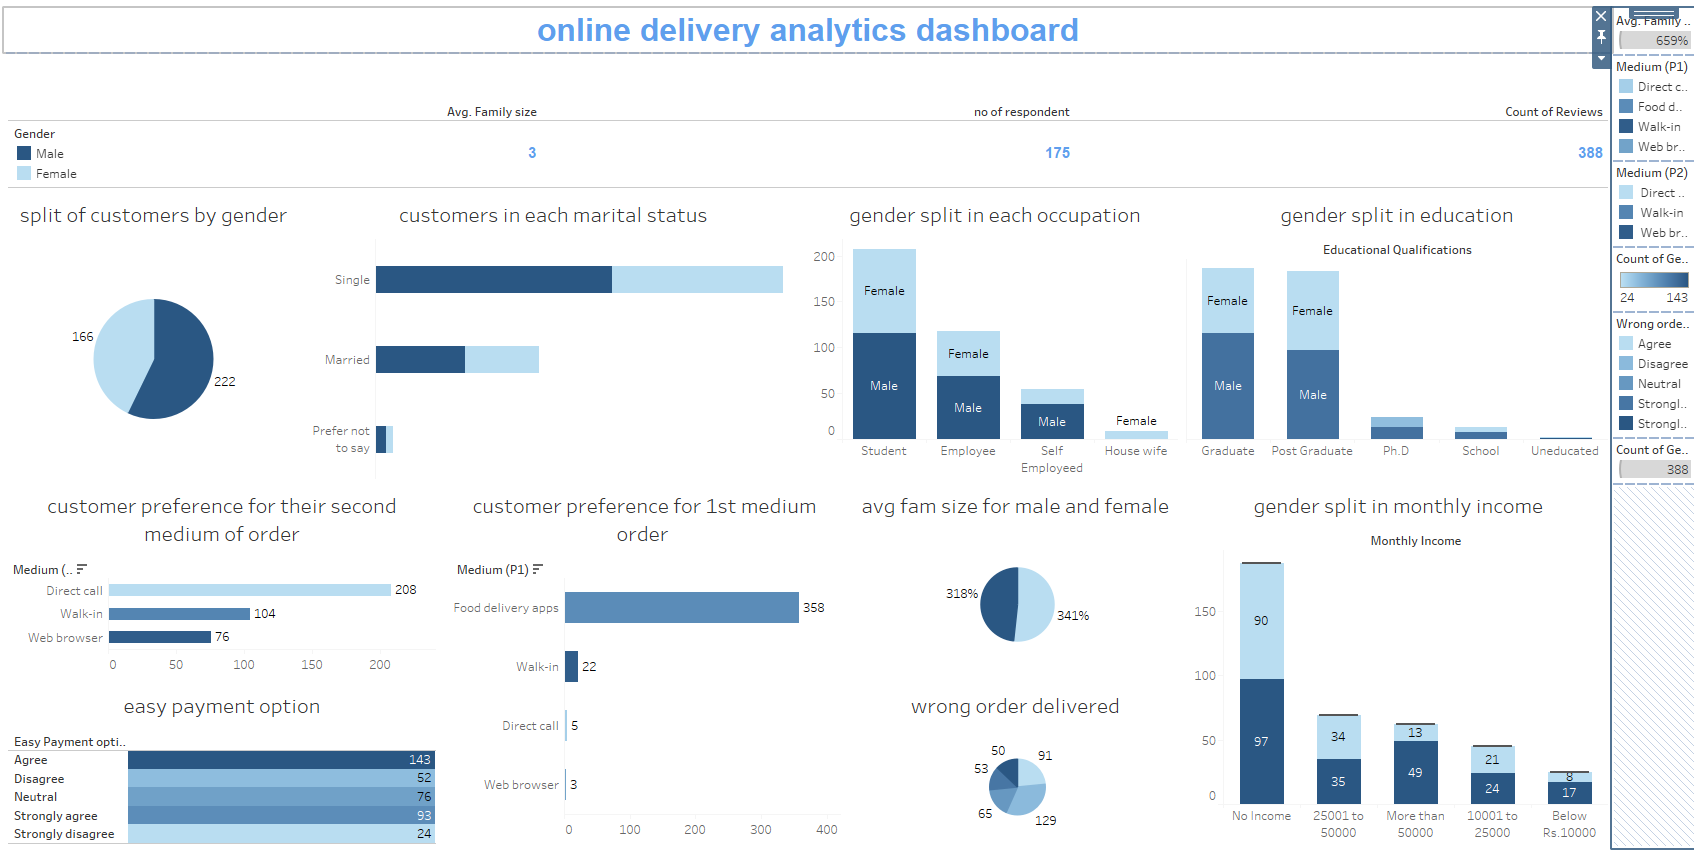

What the dashboard file says about the page in this screenshot:
{"tool":"tableau","page":{"name":"online delivery dashboard 2","canvas":[1000,1000],"units":"permille","ordinal":1},"visuals":[{"type":"text","box":[6.5,12.2,917.8,67]},{"type":"legend","title":"avg fam size for male and female ","param":"[federated.01hfa3g0ha5sja19c26ns09fb2an].[avg:Family size:qk]","box":[924.3,12.2,69.2,70]},{"type":"legend","title":" customer preference for 1st medium order","param":"[federated.01hfa3g0ha5sja19c26ns09fb2an].[none:Medium (P1):nk]","box":[924.3,82.2,69.2,161.3]},{"type":"worksheet","title":"KPI","mark":"Automatic","box":[6.5,91.3,917.8,134.7]},{"type":"legend","title":"split of customers by gender","param":"[federated.01hfa3g0ha5sja19c26ns09fb2an].[none:Gender:nk]","box":[10.6,146,113.7,71.8]},{"type":"worksheet","title":"split of customers by gender","mark":"Pie","box":[6.5,226,243.3,338]},{"type":"worksheet","title":"customers in each marital status ","mark":"Automatic","rows":["Marital Status"],"cols":["Gender"],"box":[249.8,226,215.6,338]},{"type":"worksheet","title":"gender split in each occupation","mark":"Automatic","rows":["Gender"],"cols":["Occupation"],"box":[465.4,226,217.5,338]},{"type":"worksheet","title":"gender split in education","mark":"Automatic","rows":["Gender"],"cols":["Educational Qualifications"],"box":[682.9,226,241.4,338]},{"type":"legend","title":"customer preference for their second medium of order","param":"[federated.01hfa3g0ha5sja19c26ns09fb2an].[none:Medium (P2):nk]","box":[924.3,243.5,69.2,130.9]},{"type":"legend","title":"easy payment option","param":"[federated.01hfa3g0ha5sja19c26ns09fb2an].[cnt:Gender:qk]","box":[924.3,374.4,69.2,98.9]},{"type":"legend","title":"wrong order delivered ","param":"[federated.01hfa3g0ha5sja19c26ns09fb2an].[none:Wrong order delivered:nk]","box":[924.3,473.4,69.2,191.8]},{"type":"worksheet","title":"customer preference for their second medium of order","mark":"Automatic","rows":["Medium (P2)"],"cols":["Gender"],"box":[6.5,564.1,248.8,232.5]},{"type":"worksheet","title":" customer preference for 1st medium order","mark":"Automatic","rows":["Medium (P1)"],"cols":["Gender"],"box":[255.3,564.1,231,423.8]},{"type":"worksheet","title":"avg fam size for male and female ","mark":"Pie","box":[486.3,564.1,196.8,232.5]},{"type":"worksheet","title":"gender split in monthly income ","mark":"Bar","rows":["Gender"],"cols":["Monthly Income"],"box":[683.1,564.1,241.2,423.8]},{"type":"legend","title":"wrong order delivered ","param":"[federated.01hfa3g0ha5sja19c26ns09fb2an].[cnt:Gender:qk]","box":[924.3,665.2,69.2,70]},{"type":"worksheet","title":"easy payment option","mark":"Square","rows":["Easy Payment option"],"box":[6.5,796.5,248.8,191.3]},{"type":"worksheet","title":"wrong order delivered ","mark":"Pie","box":[486.3,796.5,196.8,191.3]}]}

Visuals, with their boxes on the dashboard's canvas, which has no fixed pixel size, in thousandths of its width and height (x1, y1, x2, y2). These are canvas units, not pixel positions in the 1694x853 screenshot, which may show the page scaled, cropped or inside an application window:
text: (left=6, top=12, right=924, bottom=79)
"avg fam size for male and female " legend: (left=924, top=12, right=994, bottom=82)
" customer preference for 1st medium order" legend: (left=924, top=82, right=994, bottom=244)
"KPI" worksheet: (left=6, top=91, right=924, bottom=226)
"split of customers by gender" legend: (left=11, top=146, right=124, bottom=218)
"split of customers by gender" worksheet (Pie marks): (left=6, top=226, right=250, bottom=564)
"customers in each marital status " worksheet: (left=250, top=226, right=465, bottom=564)
"gender split in each occupation" worksheet: (left=465, top=226, right=683, bottom=564)
"gender split in education" worksheet: (left=683, top=226, right=924, bottom=564)
"customer preference for their second medium of order" legend: (left=924, top=244, right=994, bottom=374)
"easy payment option" legend: (left=924, top=374, right=994, bottom=473)
"wrong order delivered " legend: (left=924, top=473, right=994, bottom=665)
"customer preference for their second medium of order" worksheet: (left=6, top=564, right=255, bottom=797)
" customer preference for 1st medium order" worksheet: (left=255, top=564, right=486, bottom=988)
"avg fam size for male and female " worksheet (Pie marks): (left=486, top=564, right=683, bottom=797)
"gender split in monthly income " worksheet (Bar marks): (left=683, top=564, right=924, bottom=988)
"wrong order delivered " legend: (left=924, top=665, right=994, bottom=735)
"easy payment option" worksheet (Square marks): (left=6, top=796, right=255, bottom=988)
"wrong order delivered " worksheet (Pie marks): (left=486, top=796, right=683, bottom=988)
